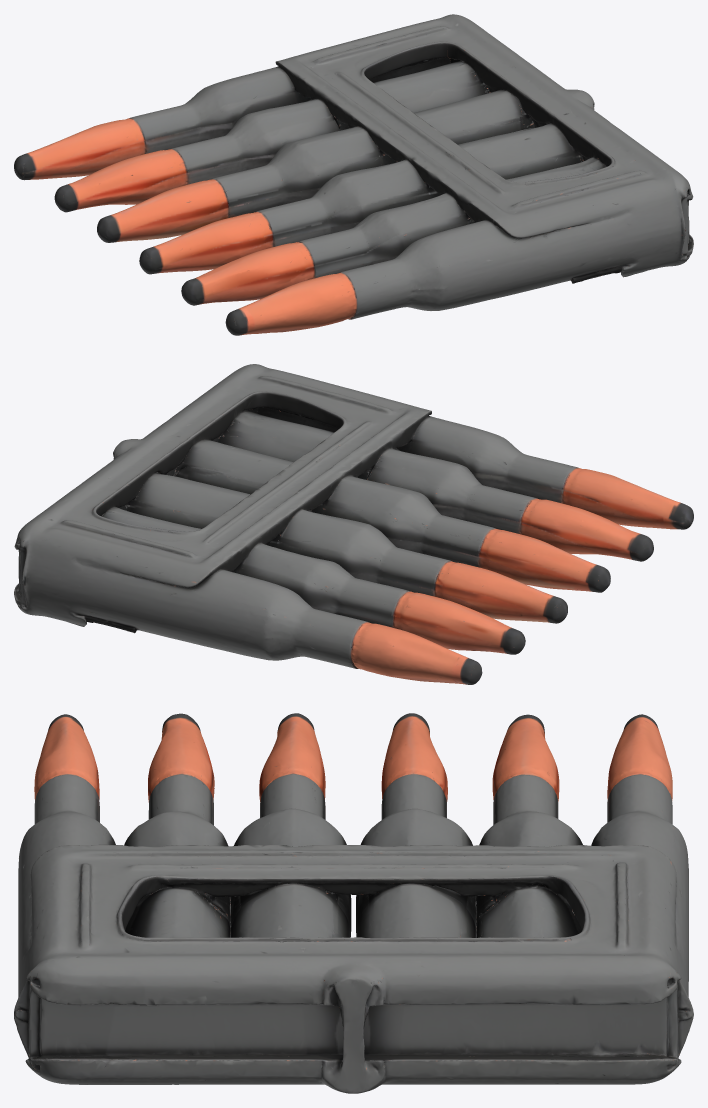
Rendered from carcano_magazine_1106044552_texture.fbx.
3 renders of one model, top to bottom at view 1: azimuth 30°, elevation 25°; view 2: azimuth 150°, elevation 25°; view 3: azimuth 270°, elevation 25°, orthographic. The views are drawn at different scales.
Parts seen in each view (by area): view 1: Mesh1.0; view 2: Mesh1.0; view 3: Mesh1.0.
Boxes of the visible parts, x1,y1,x2,y2 form: Mesh1.0: [14, 14, 693, 335]; Mesh1.0: [14, 364, 693, 684]; Mesh1.0: [14, 713, 693, 1093].
Size of the model in its own units: 190 by 36.35 by 176.
Materials: 1 (1 with a texture image).
